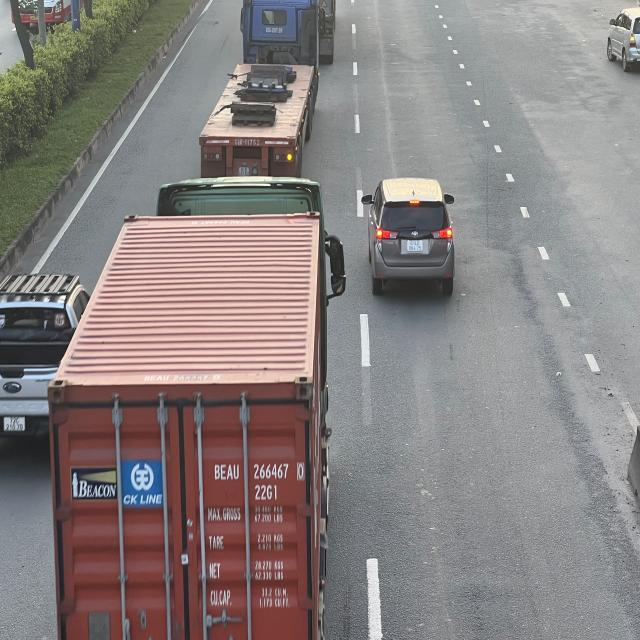car: (0, 272, 88, 452), (364, 177, 457, 299), (607, 8, 640, 68)
container: (40, 174, 342, 640), (199, 2, 323, 187)
